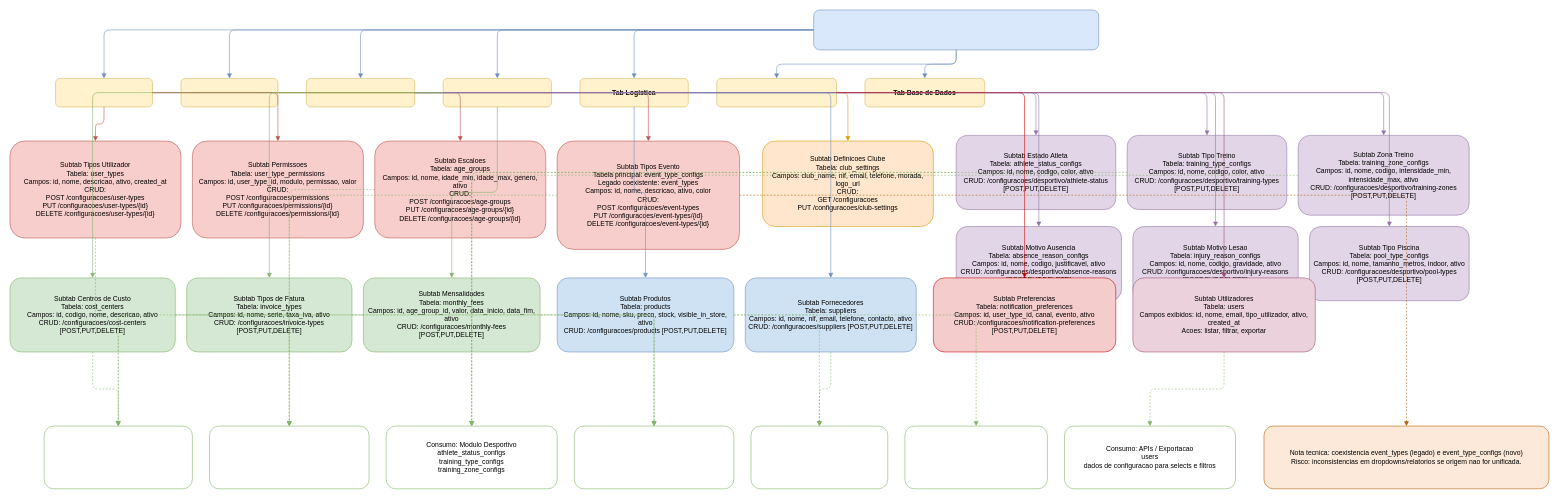
This 1559x499 diagram has some shape labels left out. Each missing label, with the centre of its shape:
"Consumo: Modulo Eventos event_type_configs/event_types age_groups cost_centers" belongs at (x=289, y=457).
"Consumo: Modulo Financeiro invoice_types monthly_fees cost_centers" belongs at (x=654, y=457).
"Consumo: Modulo Logistica products suppliers" belongs at (x=819, y=457).
"Consumo: Modulo Loja products.visible_in_store stock preco" belongs at (x=975, y=457).
"Consumo: Modulo Membros user_types monthly_fees cost_centers" belongs at (x=118, y=457).
"Modulo Configuracoes Tabs + Subtabs + Tabelas + Campos + Endpoints + Consumo" belongs at (x=956, y=29).
"Tab Clube" belongs at (x=229, y=92).
"Tab Desportivo" belongs at (x=360, y=92).
"Tab Financeiro" belongs at (x=497, y=92).
"Tab Geral" belongs at (x=103, y=92).
"Tab Notificacoes" belongs at (x=776, y=92).
